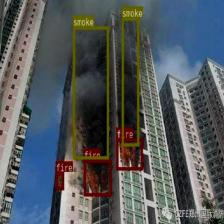fire: (84, 160, 112, 196), (116, 138, 142, 170), (55, 172, 64, 189)
smoke: (73, 26, 108, 158), (121, 17, 139, 146)
